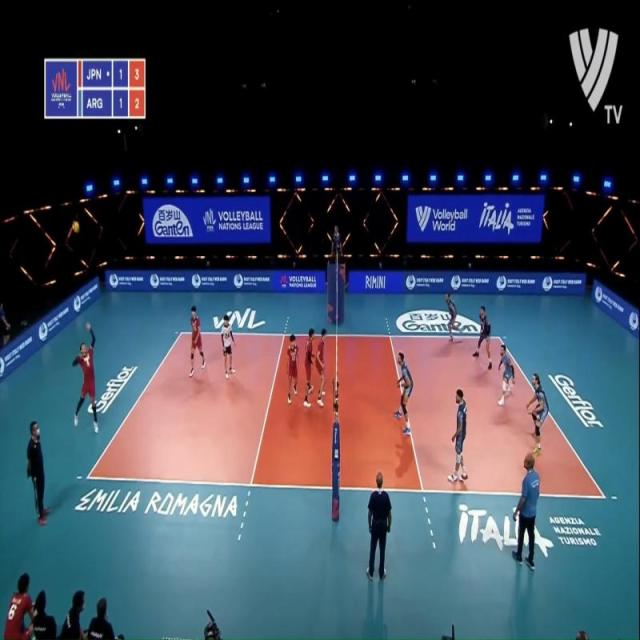volleyball: (72, 221, 79, 233)
